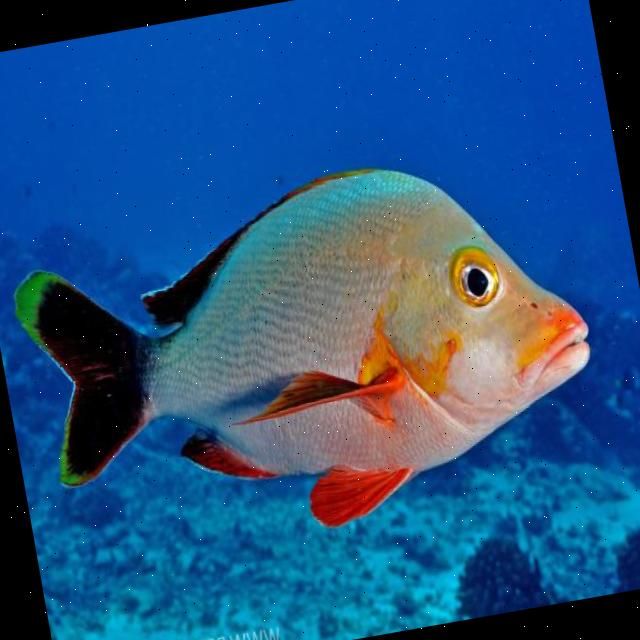ikan: (0, 129, 616, 575)
